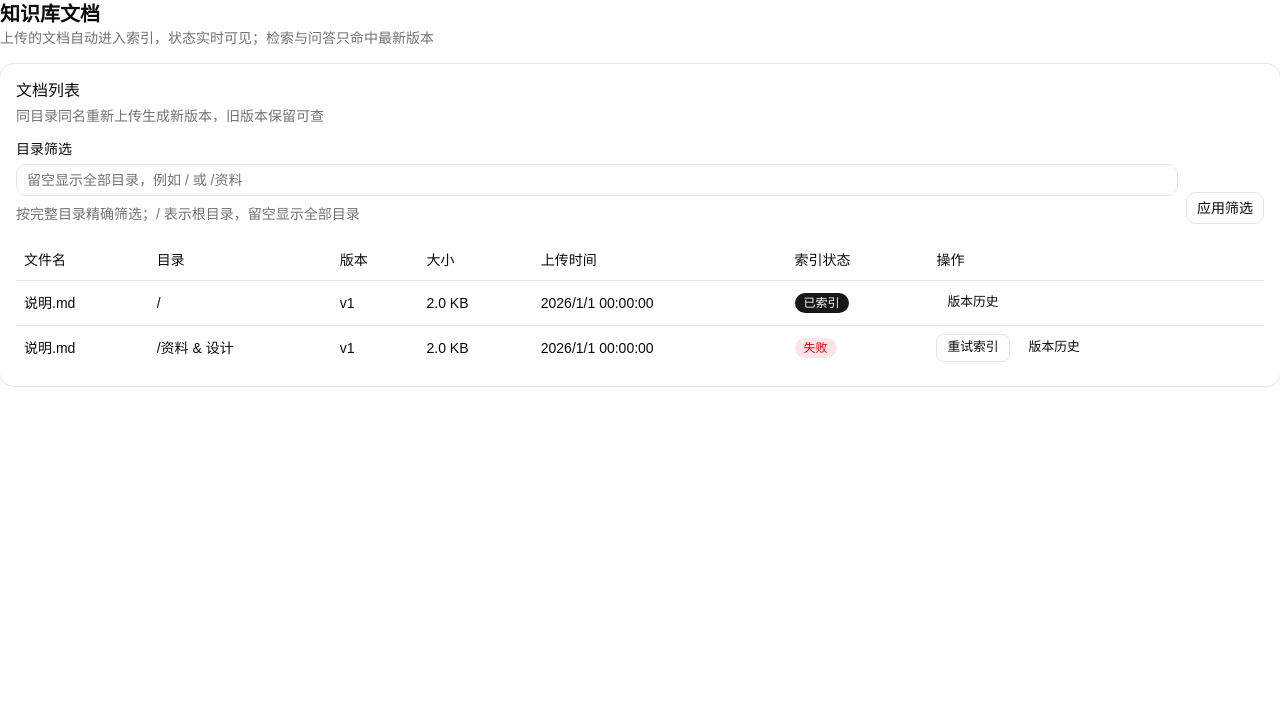
Test case: DocumentsPage 目录 › 筛选后的文件仍可重试索引并查看该文件的版本历史
Type "/资料 & 设计" into the field labelled "目录筛选". click: (597, 180)
box: 16,164 -> 1178,196
Then press Enter
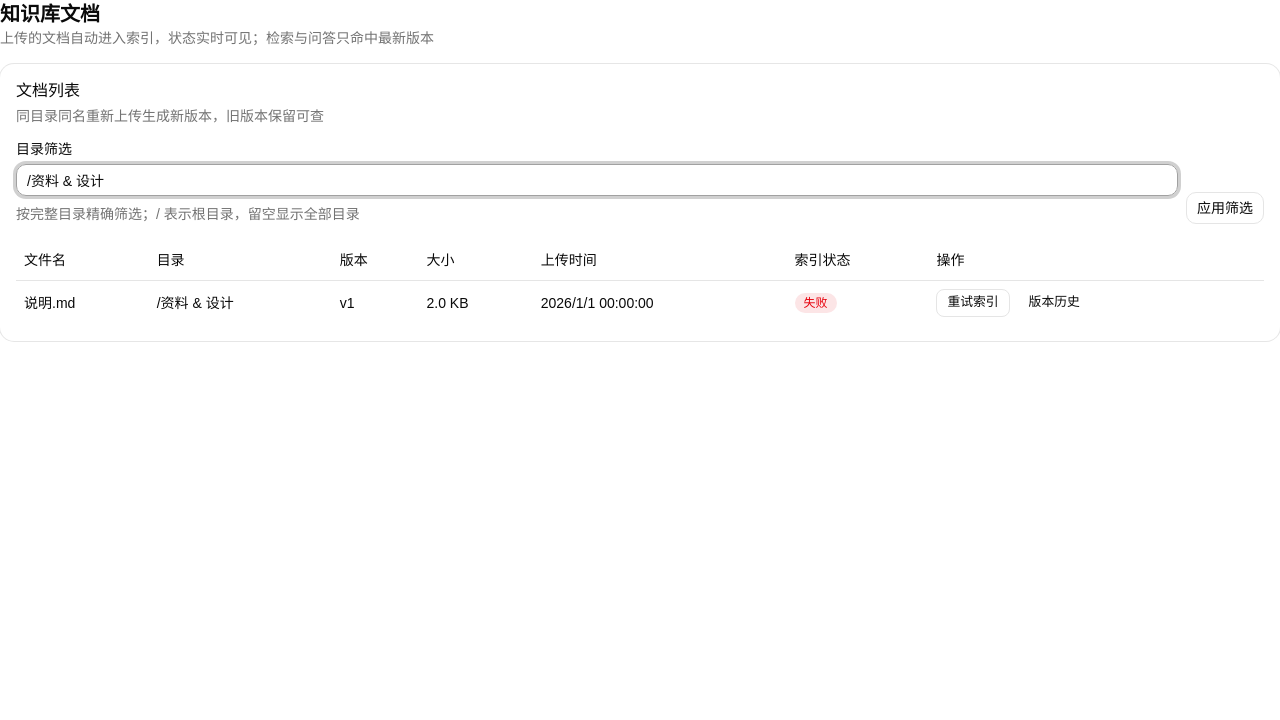
expect the text "说明.md" is shown once: met, box 16,280 -> 149,324
Click the button "重试索引". click: (973, 302)
box: 936,288 -> 1010,316
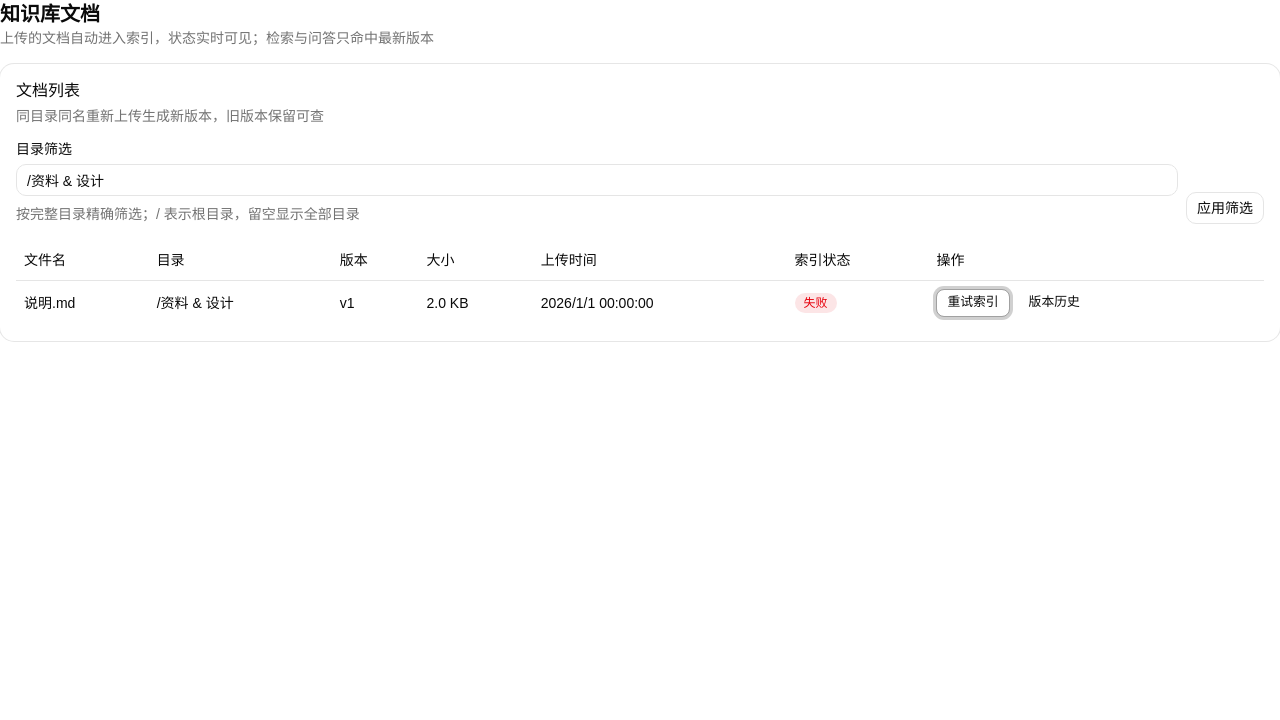
Click the button "版本历史". click: (1054, 302)
box: 1018,288 -> 1091,316
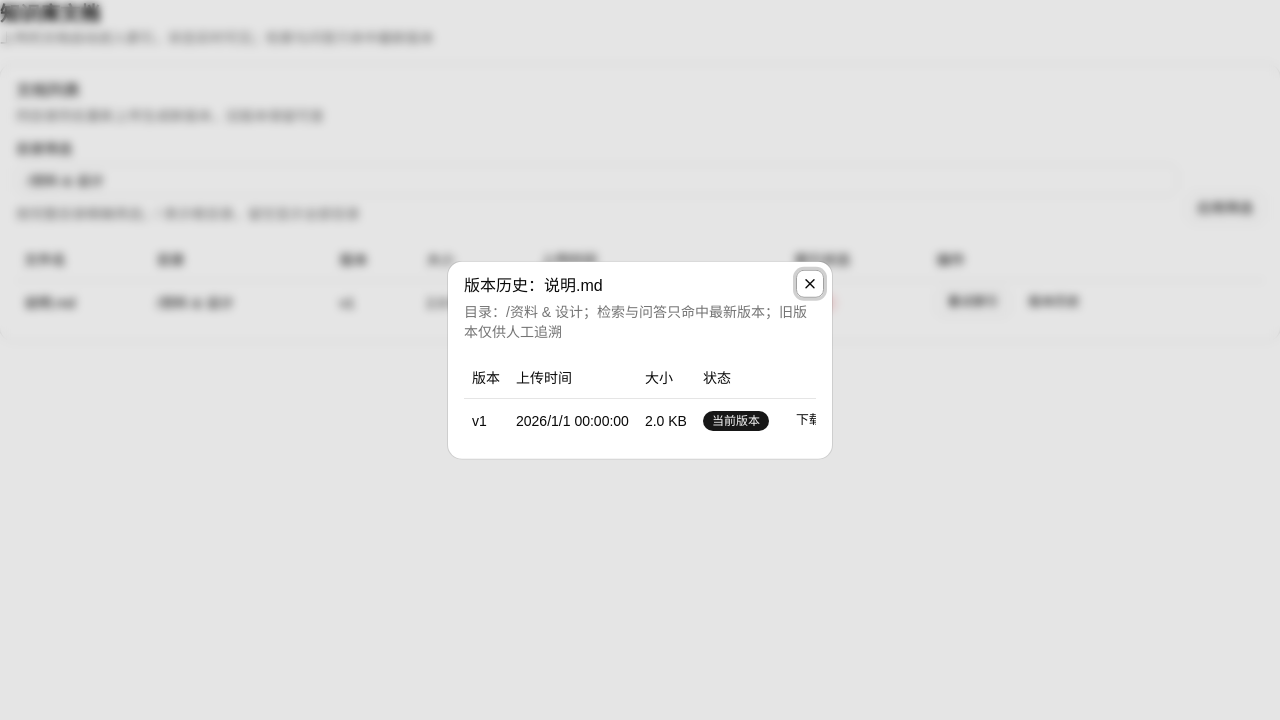
expect the text "目录：/资料 & 设计；检索与问答只命中最新版本；旧版本仅供人工追溯" is shown: met, box 464,302 -> 816,342
expect the text "当前版本" is shown: met, box 703,411 -> 769,431
